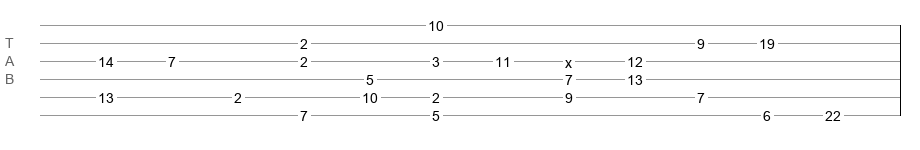10: (362, 90, 378, 100), (428, 18, 444, 28)
11: (495, 54, 511, 64)
12: (627, 54, 643, 64)
13: (98, 90, 114, 100), (627, 72, 643, 82)
14: (98, 54, 114, 64)
19: (759, 36, 775, 46)
2: (234, 90, 242, 100), (300, 54, 308, 64), (300, 36, 308, 46), (432, 90, 440, 100)
22: (825, 108, 841, 118)
3: (432, 54, 440, 64)
5: (366, 72, 374, 82), (432, 108, 440, 118)
6: (763, 108, 771, 118)
7: (168, 54, 176, 64), (300, 108, 308, 118), (565, 72, 573, 82), (697, 90, 705, 100)
9: (565, 90, 573, 100), (697, 36, 705, 46)
x: (565, 55, 572, 63)
